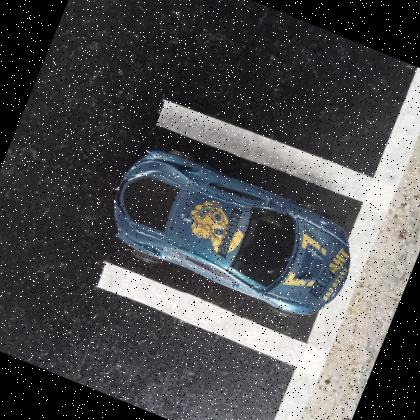Car: (113, 145, 351, 314)
